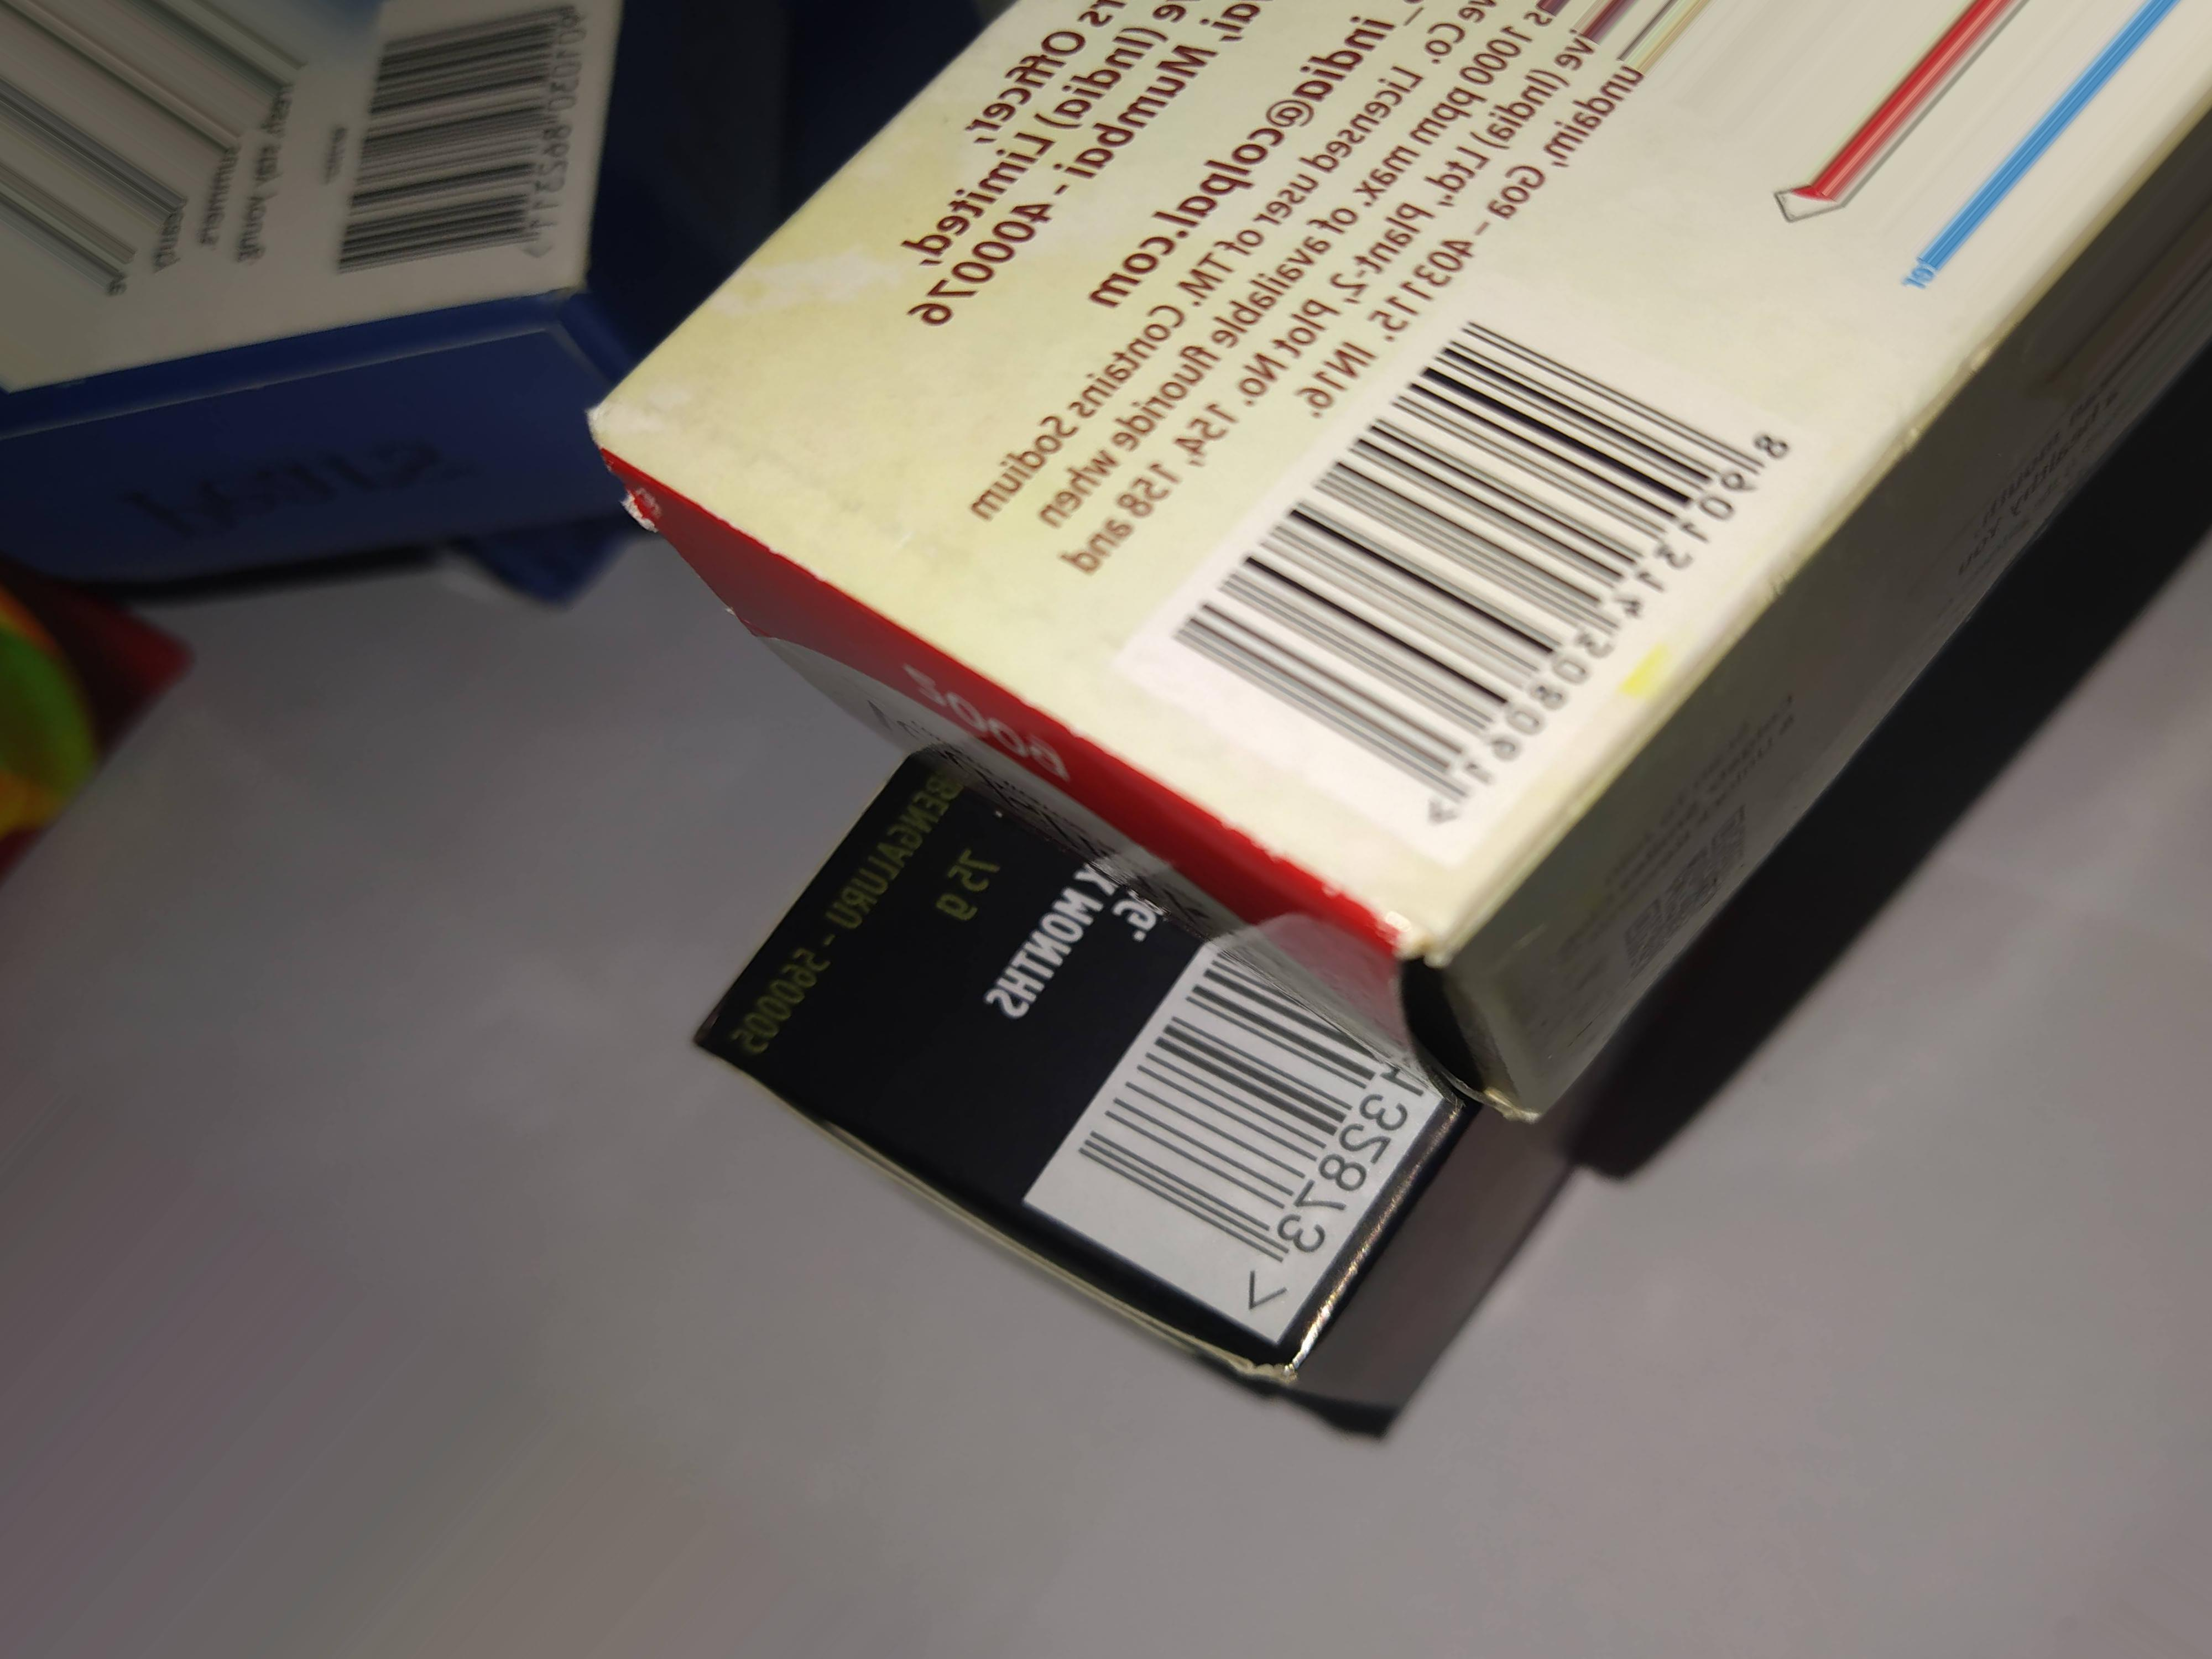Bar_code: (1179, 270, 1836, 908), (1038, 929, 1449, 1366), (312, 0, 577, 270)
